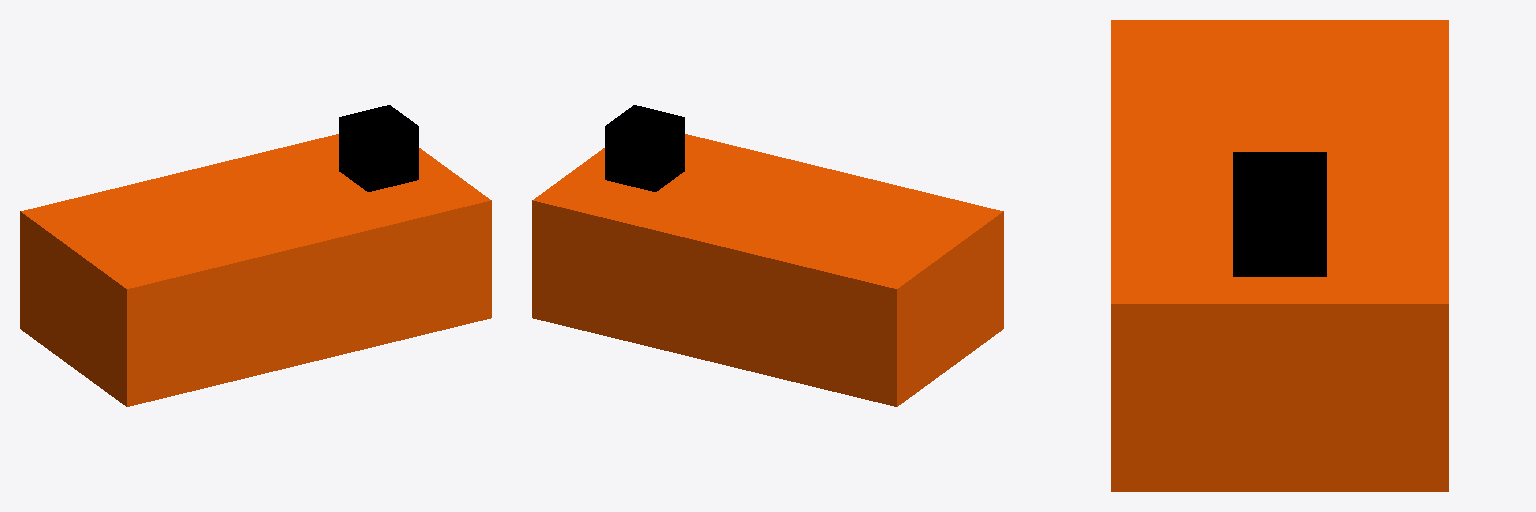
URDF robot description (turtlebot):
?<?xml version="1.0" encoding="utf-8"?>
<robot name="turtlebot" xmlns:xacro="http://ros.org/wiki/xacro">
  <material name="orange">
    <color rgba="1 0.4235 0.0392 1" />
  </material>
  <material name="Default-Material">
    <color rgba="1 1 1 1" />
  </material>
  <material name="black">
    <color rgba="0 0 0 1" />
  </material>
  <link name="base_footprint" />
  <link name="base_link">
    <inertial>
      <origin rpy="0 0 0" xyz="0.01 0 0" />
      <mass value="2" />
      <inertia ixx="0.0199950002133846" ixy="0" ixz="0" iyy="0.0199950002133846" iyz="0" izz="0.0367499999701977" />
    </inertial>
    <visual>
      <origin xyz="0 0 0.05949" />
      <geometry>
        <box size="0.356 0.18 0.11" />
      </geometry>
      <material name="orange" />
    </visual>
    <collision>
      <origin xyz="0 0 0.05949" />
      <geometry>
        <box size="0.356 0.18 0.11" />
      </geometry>
    </collision>
  </link>
  <link name="wheel_left_link">
    <inertial>
      <origin rpy="0 0 0" xyz="0 0 0" />
      <mass value="0.0099999998" />
      <inertia ixx="0.00100000004749745" ixy="0" ixz="0" iyy="0.00100000004749745" iyz="0" izz="0.00100000004749745" />
    </inertial>
    <visual>
      <geometry>
        <mesh filename="package://cube_robot_description/meshes/wheel.dae" scale="1 1 1" />
      </geometry>
    </visual>
    <collision>
      <geometry>
        <cylinder length="0.0206" radius="0.0352" />
      </geometry>
    </collision>
  </link>
  <link name="wheel_right_link">
    <inertial>
      <origin rpy="0 0 0" xyz="0 0 0" />
      <mass value="0.0099999998" />
      <inertia ixx="0.00100000004749745" ixy="0" ixz="0" iyy="0.00100000004749745" iyz="0" izz="0.00100000004749745" />
    </inertial>
    <visual>
      <geometry>
        <mesh filename="package://cube_robot_description/meshes/wheel.dae" scale="1 1 1" />
      </geometry>
    </visual>
    <collision>
      <geometry>
        <cylinder length="0.0206" radius="0.035" />
      </geometry>
    </collision>
  </link>
  <link name="caster_front_link">
    <inertial>
      <origin rpy="0 0 0" xyz="0 0 0" />
      <mass value="0.0099999998" />
      <inertia ixx="0.00100000004749745" ixy="0" ixz="0" iyy="0.00100000004749745" iyz="0" izz="0.00100000004749745" />
    </inertial>
    <visual>
      <geometry>
        <cylinder length="0.0176" radius="0.017" />
      </geometry>
      <material name="Default-Material" />
    </visual>
    <collision>
      <geometry>
        <cylinder length="0.0176" radius="0.017" />
      </geometry>
    </collision>
  </link>
  <link name="caster_back_link">
    <inertial>
      <origin rpy="0 0 0" xyz="0 0 0" />
      <mass value="0.0099999998" />
      <inertia ixx="0.00100000004749745" ixy="0" ixz="0" iyy="0.00100000004749745" iyz="0" izz="0.00100000004749745" />
    </inertial>
    <visual>
      <geometry>
        <cylinder length="0.0176" radius="0.017" />
      </geometry>
      <material name="Default-Material" />
    </visual>
    <collision>
      <geometry>
        <cylinder length="0.0176" radius="0.017" />
      </geometry>
    </collision>
  </link>
  <link name="hat">
    <inertial>
      <origin rpy="0 0 0" xyz="0 0 0" />
      <mass value="0.001" />
      <inertia ixx="1" ixy="0" ixz="0" iyy="1" iyz="0" izz="1" />
    </inertial>
    <visual>
      <origin xyz="0.12 0 0.14" />
      <geometry>
        <box size="0.05 0.05 0.05" />
      </geometry>
      <material name="black" />
    </visual>
  </link>
  <link name="lidar">
    <inertial>
      <origin rpy="0 0 0" xyz="0 0 0" />
      <mass value="1" />
      <inertia ixx="1" ixy="0" ixz="0" iyy="1" iyz="0" izz="1" />
    </inertial>
  </link>
  <joint name="base_footprint_base_link_joint" type="fixed">
    <origin xyz="0 0 0.0102" />
    <parent link="base_footprint" />
    <child link="base_link" />
  </joint>
  <joint name="base_link_wheel_left_link_joint" type="continuous">
    <origin rpy="-1.570796 0 0" xyz="0 0.115 0.025" />
    <parent link="base_link" />
    <child link="wheel_left_link" />
    <axis xyz="0 0 1" />
  </joint>
  <joint name="base_link_wheel_right_link_joint" type="continuous">
    <origin rpy="-1.570796 0 0" xyz="0 -0.115 0.025" />
    <parent link="base_link" />
    <child link="wheel_right_link" />
    <axis xyz="0 0 1" />
  </joint>
  <joint name="base_link_caster_front_link_joint" type="fixed">
    <origin rpy="-1.570796 0 0" xyz="0.115 0 0.007" />
    <parent link="base_link" />
    <child link="caster_front_link" />
  </joint>
  <joint name="base_link_caster_back_link_joint" type="fixed">
    <origin rpy="-1.570796 0 0" xyz="-0.135 0 0.009" />
    <parent link="base_link" />
    <child link="caster_back_link" />
  </joint>
  <joint name="base_link_hat_joint" type="fixed">
    <parent link="base_link" />
    <child link="hat" />
  </joint>
  <joint name="base_link_lidar_joint" type="fixed">
    <origin xyz="0.114 0 0.165" />
    <parent link="base_link" />
    <child link="lidar" />
  </joint>
  <gazebo reference="wheel_left_link">
  <mu1>1.0</mu1>
  <mu2>1.0</mu2>
  <kp>1000000.0</kp>
  <kd>100.0</kd>
  <minDepth>0.001</minDepth>
  <maxVel>1.0</maxVel>
</gazebo>
<gazebo reference="wheel_right_link">
  <mu1>1.0</mu1>
  <mu2>1.0</mu2>
  <kp>1000000.0</kp>
  <kd>100.0</kd>
  <minDepth>0.001</minDepth>
  <maxVel>1.0</maxVel>
</gazebo>
<gazebo reference="caster_front_link">
  <mu1>0.0</mu1>
  <mu2>0.0</mu2>
  <kp>1000000.0</kp>
  <kd>100.0</kd>
  <minDepth>0.001</minDepth>
  <maxVel>1.0</maxVel>
</gazebo>
<gazebo reference="caster_back_link">
  <mu1>0.0</mu1>
  <mu2>0.0</mu2>
  <kp>1000000.0</kp>
  <kd>100.0</kd>
  <minDepth>0.001</minDepth>
  <maxVel>1.0</maxVel>
</gazebo>
<gazebo reference="base_link">
  <mu1>0.3</mu1>
  <mu2>0.3</mu2>
  <sensor name="bumpers" type="contact">
    <always_on>1</always_on>
    <update_rate>50.0</update_rate>
    <visualize>true</visualize>
    <contact>
      <collision>base_footprint_fixed_joint_lump__base_collision</collision>
    </contact>
  </sensor>
</gazebo>
<gazebo reference="cliff_sensor_left_link">
  <sensor name="cliff_sensor_left" type="ray">
    <always_on>true</always_on>
    <update_rate>50</update_rate>
    <visualize>true</visualize>
    <ray>
      <scan>
        <horizontal>
          <samples>50</samples>
          <resolution>1.0</resolution>
          <min_angle>-0.0436</min_angle>
          <!-- -2.5 degree -->
          <max_angle>0.0436</max_angle>
          <!-- 2.5 degree -->
        </horizontal>
        <!--            Can't use vertical rays until this bug is resolved: -->
        <!--            https://bitbucket.org/osrf/gazebo/issue/509/vertical-sensor-doesnt-works -->
        <!-- \t          <vertical> -->
        <!-- \t            <samples>50</samples> -->
        <!-- \t            <resolution>1.0</resolution> -->
        <!-- \t            <min_angle>-0.0436</min_angle>  -2.5 degree -->
        <!-- \t            <max_angle>0.0436</max_angle> 2.5 degree -->
        <!-- \t          </vertical> -->
      </scan>
      <range>
        <min>0.01</min>
        <max>0.15</max>
        <resolution>1.0</resolution>
      </range>
    </ray>
  </sensor>
</gazebo>
<gazebo reference="cliff_sensor_right_link">
  <sensor name="cliff_sensor_right" type="ray">
    <always_on>true</always_on>
    <update_rate>50</update_rate>
    <visualize>true</visualize>
    <ray>
      <scan>
        <horizontal>
          <samples>50</samples>
          <resolution>1.0</resolution>
          <min_angle>-0.0436</min_angle>
          <!-- -2.5 degree -->
          <max_angle>0.0436</max_angle>
          <!-- 2.5 degree -->
        </horizontal>
        <!--            Can't use vertical rays until this bug is resolved: -->
        <!--            https://bitbucket.org/osrf/gazebo/issue/509/vertical-sensor-doesnt-works -->
        <!-- \t          <vertical> -->
        <!-- \t            <samples>50</samples> -->
        <!-- \t            <resolution>1.0</resolution> -->
        <!-- \t            <min_angle>-0.0436</min_angle>  -2.5 degree -->
        <!-- \t            <max_angle>0.0436</max_angle> 2.5 degree -->
        <!-- \t          </vertical> -->
      </scan>
      <range>
        <min>0.01</min>
        <max>0.15</max>
        <resolution>1.0</resolution>
      </range>
    </ray>
  </sensor>
</gazebo>
<gazebo reference="cliff_sensor_front_link">
  <sensor name="cliff_sensor_front" type="ray">
    <always_on>true</always_on>
    <update_rate>50</update_rate>
    <visualize>true</visualize>
    <ray>
      <scan>
        <horizontal>
          <samples>50</samples>
          <resolution>1.0</resolution>
          <min_angle>-0.0436</min_angle>
          <!-- -2.5 degree -->
          <max_angle>0.0436</max_angle>
          <!-- 2.5 degree -->
        </horizontal>
        <!-- \t          Can't use vertical rays until this bug is resolved: -->
        <!--            https://bitbucket.org/osrf/gazebo/issue/509/vertical-sensor-doesnt-works -->
        <!-- \t          <vertical> -->
        <!-- \t            <samples>50</samples> -->
        <!-- \t            <resolution>1.0</resolution> -->
        <!-- \t            <min_angle>-0.0436</min_angle>  -2.5 degree -->
        <!-- \t            <max_angle>0.0436</max_angle> 2.5 degree -->
        <!-- \t          </vertical> -->
      </scan>
      <range>
        <min>0.01</min>
        <max>0.15</max>
        <resolution>1.0</resolution>
      </range>
    </ray>
  </sensor>
</gazebo>
<gazebo reference="gyro_link">
  <sensor name="imu" type="imu">
    <always_on>true</always_on>
    <update_rate>50</update_rate>
    <visualize>false</visualize>
    <imu>
      <noise>
        <type>gaussian</type>
        <rate>
          <mean>0.0</mean>
          <stddev>1.96e-06</stddev>
          <!-- 0.25 x 0.25 (deg/s) -->
          <bias_mean>0.0</bias_mean>
          <bias_stddev>0.0</bias_stddev>
        </rate>
        <accel>
          <!-- not used in the plugin and real robot, hence using tutorial values -->
          <mean>0.0</mean>
          <stddev>1.7e-2</stddev>
          <bias_mean>0.1</bias_mean>
          <bias_stddev>0.001</bias_stddev>
        </accel>
      </noise>
    </imu>
  </sensor>
</gazebo>
<gazebo>
  <plugin filename="libgazebo_ros_kobuki.so" name="kobuki_controller">
    <publish_tf>1</publish_tf>
    <left_wheel_joint_name>wheel_left_joint</left_wheel_joint_name>
    <right_wheel_joint_name>wheel_right_joint</right_wheel_joint_name>
    <wheel_separation>.230</wheel_separation>
    <wheel_diameter>0.070</wheel_diameter>
    <torque>1.0</torque>
    <velocity_command_timeout>0.6</velocity_command_timeout>
    <cliff_sensor_left_name>cliff_sensor_left</cliff_sensor_left_name>
    <cliff_sensor_center_name>cliff_sensor_front</cliff_sensor_center_name>
    <cliff_sensor_right_name>cliff_sensor_right</cliff_sensor_right_name>
    <cliff_detection_threshold>0.04</cliff_detection_threshold>
    <bumper_name>bumpers</bumper_name>
    <imu_name>imu</imu_name>
  </plugin>
</gazebo>
<gazebo reference="camera_link">
  <sensor name="camera" type="depth">
    <always_on>true</always_on>
    <update_rate>20.0</update_rate>
    <camera>
      <horizontal_fov>1.0471975512</horizontal_fov>
      <image>
        <format>B8G8R8</format>
        <width>640</width>
        <height>480</height>
      </image>
      <clip>
        <near>0.05</near>
        <far>8.0</far>
      </clip>
    </camera>
    <plugin filename="libgazebo_ros_openni_kinect.so" name="kinect_camera_controller">
      <cameraName>camera</cameraName>
      <alwaysOn>true</alwaysOn>
      <updateRate>10</updateRate>
      <imageTopicName>rgb/image_raw</imageTopicName>
      <depthImageTopicName>depth/image_raw</depthImageTopicName>
      <pointCloudTopicName>depth/points</pointCloudTopicName>
      <cameraInfoTopicName>rgb/camera_info</cameraInfoTopicName>
      <depthImageCameraInfoTopicName>depth/camera_info</depthImageCameraInfoTopicName>
      <frameName>camera_depth_optical_frame</frameName>
      <baseline>0.1</baseline>
      <distortion_k1>0.0</distortion_k1>
      <distortion_k2>0.0</distortion_k2>
      <distortion_k3>0.0</distortion_k3>
      <distortion_t1>0.0</distortion_t1>
      <distortion_t2>0.0</distortion_t2>
      <pointCloudCutoff>0.4</pointCloudCutoff>
    </plugin>
  </sensor>
</gazebo>
</robot>

--- What the picture shows (computed from the rendered views, not written in the file) ---
3 views of the same robot in one strip: view 1: azimuth 30°, elevation 25°; view 2: azimuth 150°, elevation 25°; view 3: azimuth 270°, elevation 25° (orthographic).
Model turtlebot with 8 links and 7 joints (2 continuous, 5 fixed), rooted at base_footprint, posed every joint at zero.
Visible links, largest first — view 1: base_link, hat; view 2: base_link, hat; view 3: base_link, hat.
Boxes of the visible links, x1,y1,x2,y2 form: base_link: (20,134,491,406); hat: (339,105,418,191); base_link: (532,134,1003,406); hat: (605,105,684,191); base_link: (1111,20,1448,491); hat: (1233,152,1326,276).
Bounding box of the posed robot: 0.356 × 0.18 × 0.175 m (x, y, z).
Meshes: 1 distinct files referenced, 0 mesh visuals loaded (none loaded); not drawn: 2 (reference not matched to a file when rendering).
